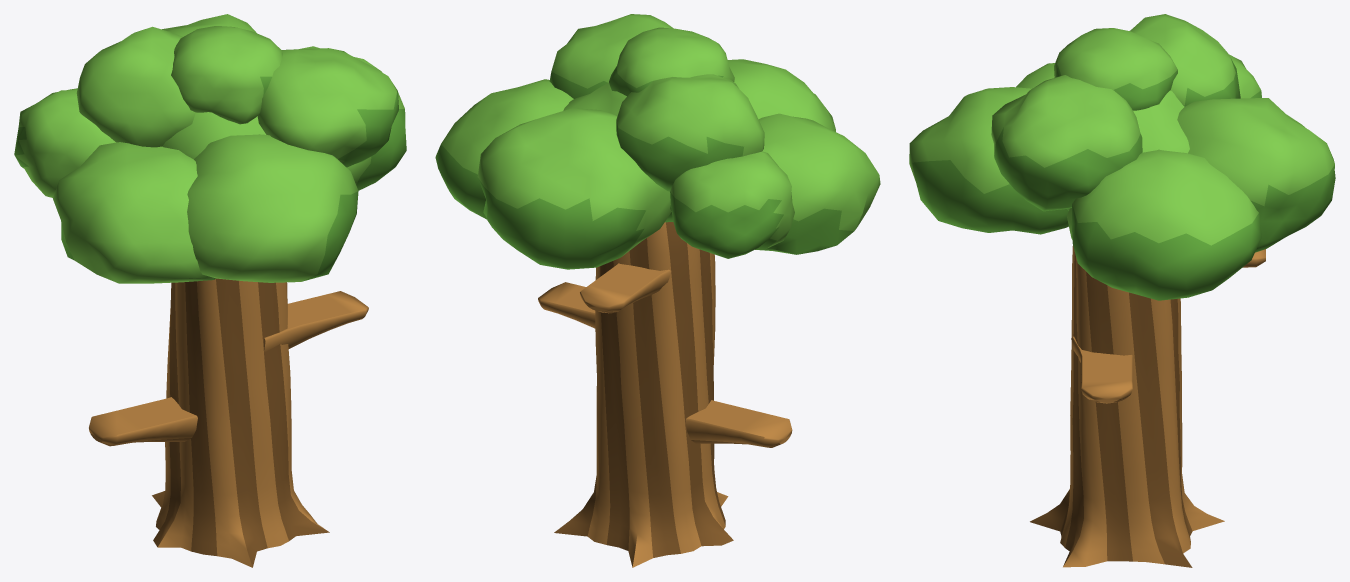
File: Tree.fbx
3 views of the same model, side by side, from view 1: azimuth 30°, elevation 25°; view 2: azimuth 150°, elevation 25°; view 3: azimuth 270°, elevation 25° (orthographic). The views are drawn at different scales.
Parts seen in each view (by area): view 1: Tree; view 2: Tree; view 3: Tree.
Part boxes in pixels (x1,y1,x2,y2): Tree: (14,14,406,567); Tree: (435,14,880,567); Tree: (909,14,1335,567).
Size of the model in its own units: 13.22 by 16.65 by 13.12.
